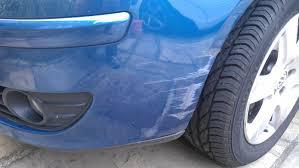front-bumper-dent: (61, 43, 214, 142)
